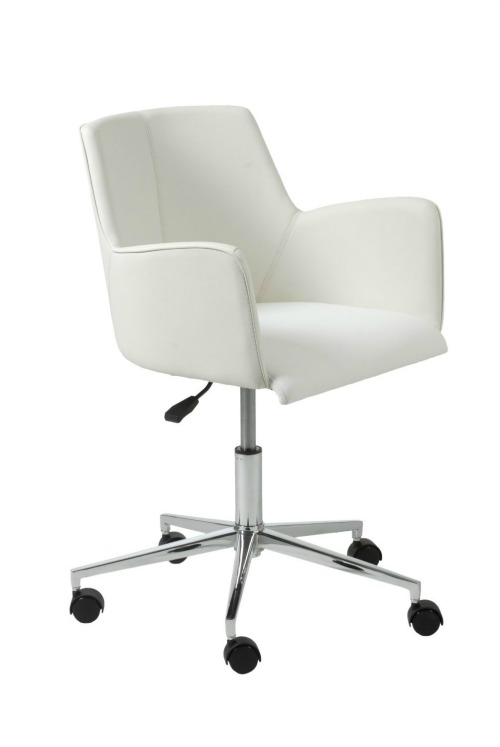chairs: (68, 93, 455, 677)
